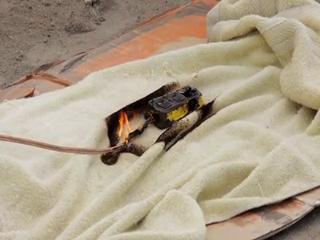Fire: (114, 111, 137, 147)
